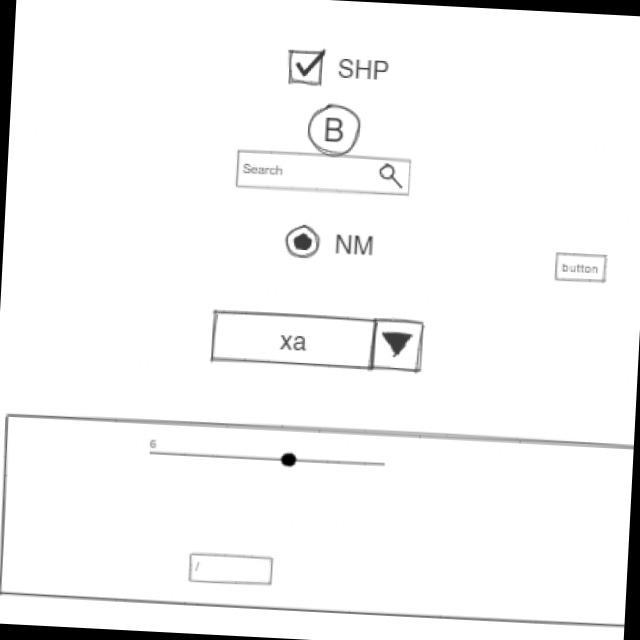button: (553, 249, 609, 286)
checkbox: (286, 46, 393, 91)
container: (0, 410, 634, 628)
icon-button: (304, 101, 364, 160)
input: (186, 548, 276, 589)
radio: (284, 222, 379, 264)
search: (233, 148, 414, 198)
select: (208, 306, 426, 378)
slider: (160, 443, 390, 475)
